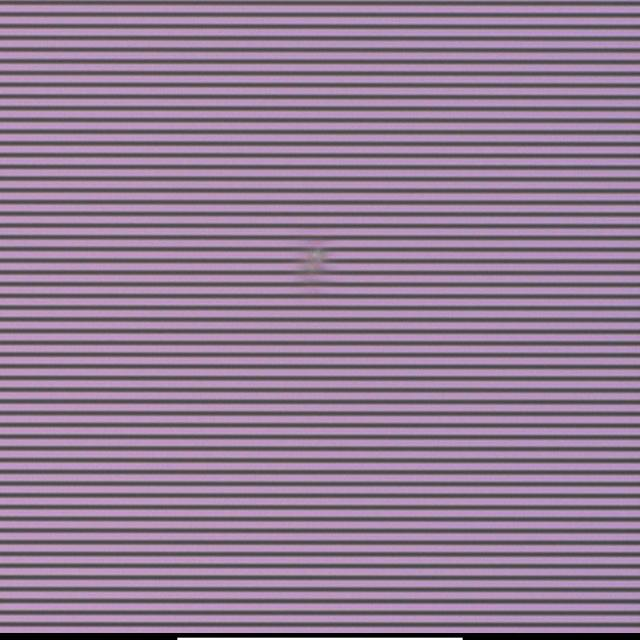nonvisual: (300, 241, 329, 277)
